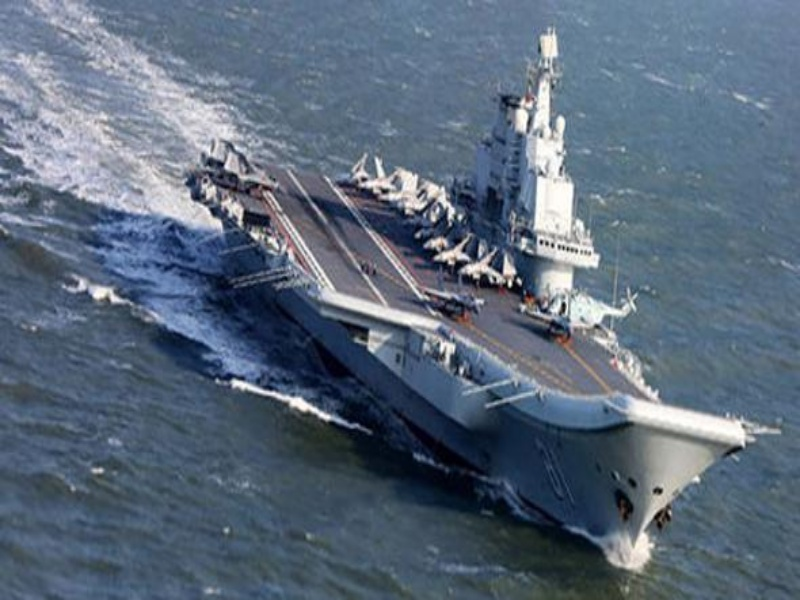carrier: (205, 57, 743, 573)
